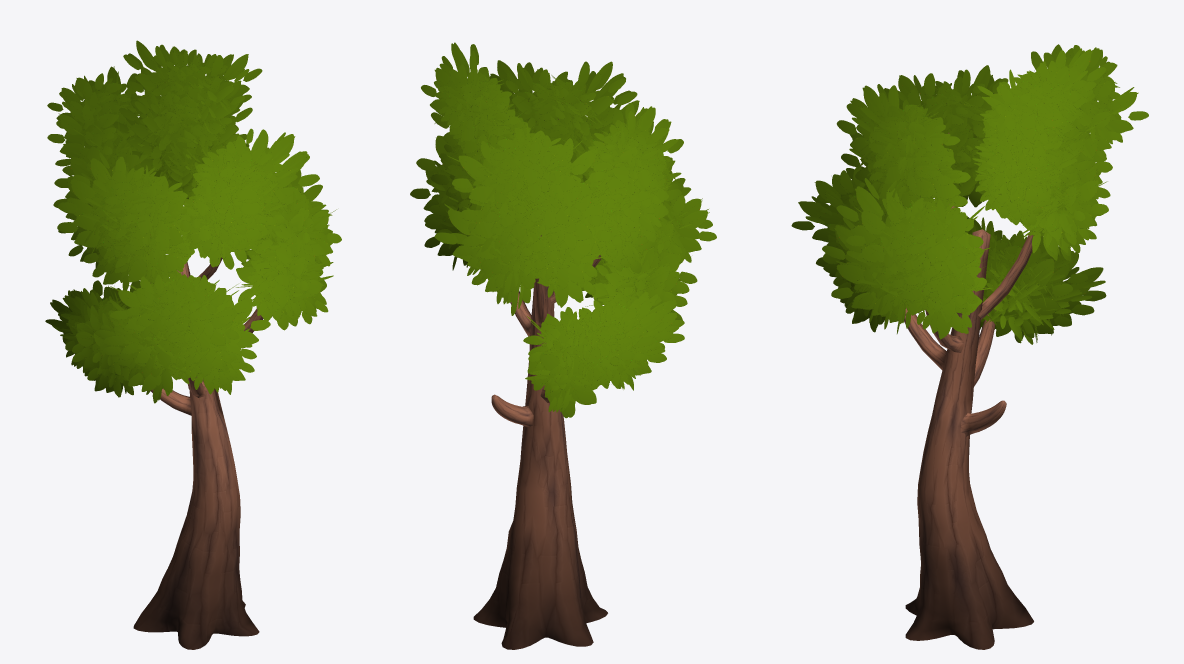
The model's file is CommonTree_5.glb.
3 views of the same model, side by side, from view 1: azimuth 30°, elevation 25°; view 2: azimuth 150°, elevation 25°; view 3: azimuth 270°, elevation 25° (orthographic). The views are drawn at different scales.
Visible parts, largest first — view 1: CommonTree_5; view 2: CommonTree_5; view 3: CommonTree_5.
Part boxes in pixels (left/top/right/bottom): CommonTree_5: left=45, top=40, right=341, bottom=649; CommonTree_5: left=410, top=42, right=716, bottom=649; CommonTree_5: left=791, top=44, right=1148, bottom=649.
Size of the model in its own units: 3.67 by 7.01 by 4.22.
2 materials, 2 textured.
